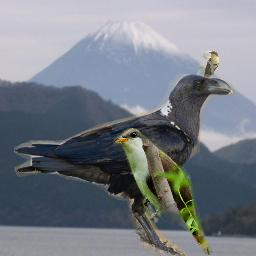Crow: (14, 74, 235, 256)
Cuckoo: (110, 128, 216, 256), (197, 51, 219, 92)
